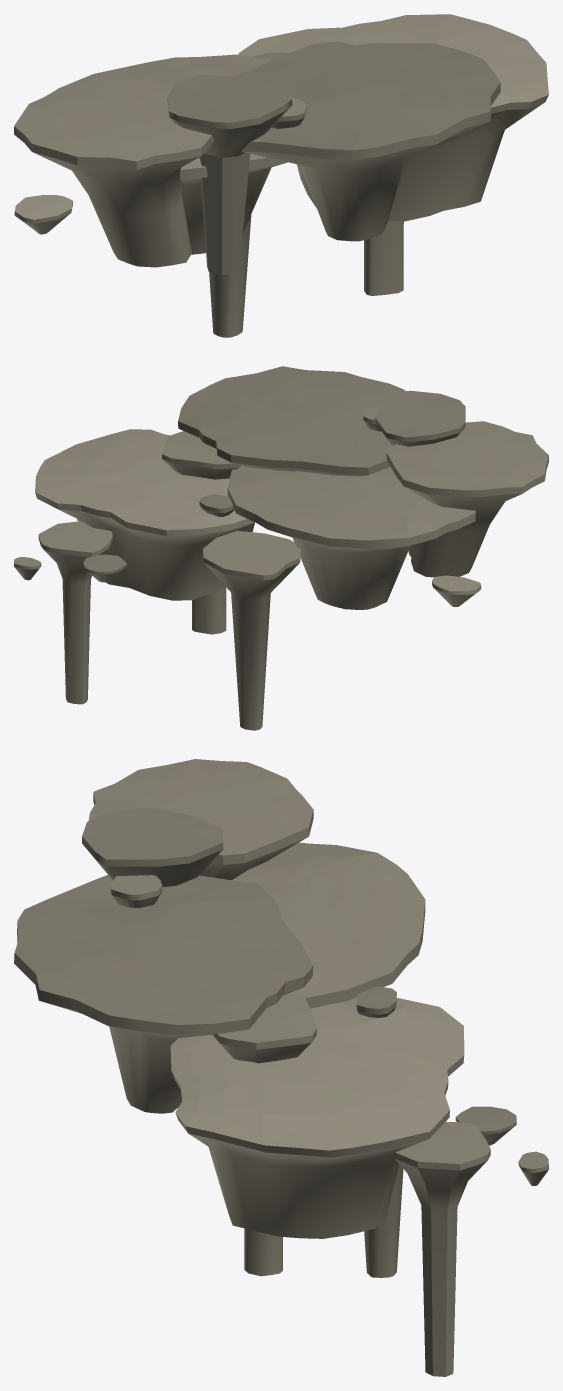
The model's file is coral_tables_B_medium.fbx.
The picture shows the model from 3 angles, top to bottom: view 1: azimuth 30°, elevation 25°; view 2: azimuth 150°, elevation 25°; view 3: azimuth 270°, elevation 25°; orthographic projection. The views are drawn at different scales.
Visible parts, largest first — view 1: coral_tables_B_big_A, coral_tables_B_C, coral_tables_B_big_C, coral_tables_B_D, coral_tables_B_big_B, coral_tables_B_E, coral_tables_B_F, coral_tables_B_small_K, coral_tables_B_small_J; view 2: coral_tables_B_big_C, coral_tables_B_big_B, coral_tables_B_big_A, coral_tables_B_C, coral_tables_B_F, coral_tables_B_G, coral_tables_B_D, coral_tables_B_E, coral_tables_B_small_K, coral_tables_B_small_H, coral_tables_B_small_I, coral_tables_B_small_L; view 3: coral_tables_B_big_C, coral_tables_B_big_A, coral_tables_B_big_B, coral_tables_B_C, coral_tables_B_G, coral_tables_B_D, coral_tables_B_E, coral_tables_B_F, coral_tables_B_small_J, coral_tables_B_small_H, coral_tables_B_small_I, coral_tables_B_small_L.
Part boxes in pixels (x1,y1,x2,y2): coral_tables_B_big_A: (232,41,500,241); coral_tables_B_C: (14,77,213,267); coral_tables_B_big_C: (238,14,548,221); coral_tables_B_D: (167,75,292,275); coral_tables_B_big_B: (52,54,287,254); coral_tables_B_E: (364,221,403,295); coral_tables_B_F: (209,215,251,337); coral_tables_B_small_K: (14,195,73,234); coral_tables_B_small_J: (272,96,306,128); coral_tables_B_big_C: (35,429,254,600); coral_tables_B_big_B: (227,465,475,609); coral_tables_B_big_A: (178,366,404,476); coral_tables_B_C: (386,421,548,577); coral_tables_B_F: (203,530,300,730); coral_tables_B_G: (38,521,112,704); coral_tables_B_D: (375,390,465,556); coral_tables_B_E: (162,431,240,634); coral_tables_B_small_K: (432,575,481,606); coral_tables_B_small_H: (83,554,127,582); coral_tables_B_small_I: (199,494,234,516); coral_tables_B_small_L: (14,557,41,580); coral_tables_B_big_C: (170,997,464,1238); coral_tables_B_big_A: (14,875,313,1113); coral_tables_B_big_B: (232,842,425,1008); coral_tables_B_C: (88,759,313,879); coral_tables_B_G: (394,1122,490,1376); coral_tables_B_D: (82,808,223,887); coral_tables_B_E: (213,991,316,1276); coral_tables_B_F: (364,1165,403,1277); coral_tables_B_small_J: (110,875,162,907); coral_tables_B_small_H: (455,1106,516,1145); coral_tables_B_small_I: (356,986,396,1017); coral_tables_B_small_L: (518,1151,548,1185).
Bounding box in the file's own units: 437 × 253 × 322.
